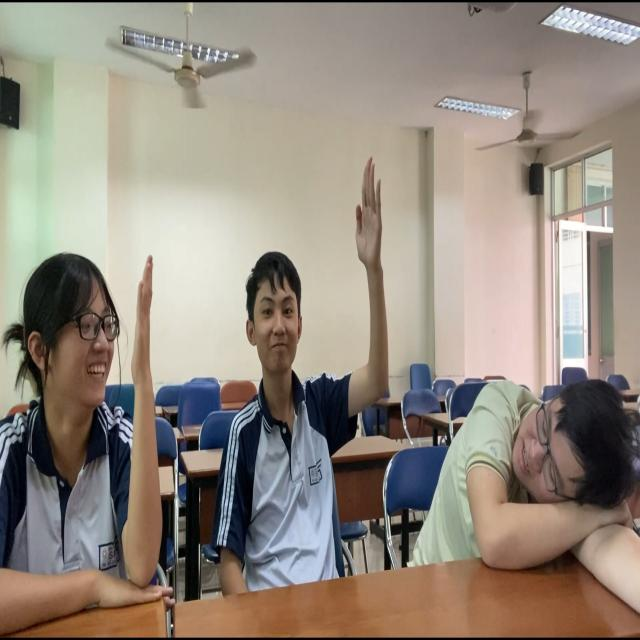raise_hand: (218, 152, 397, 640), (1, 234, 164, 640)
sleep: (416, 362, 640, 631)
